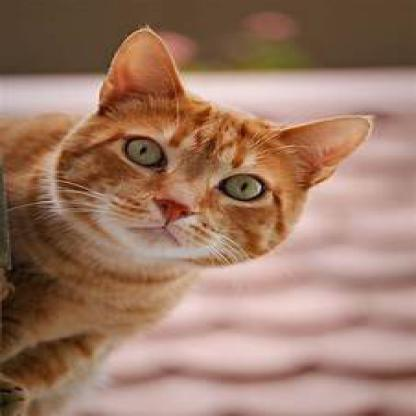cat: (0, 26, 376, 415)
